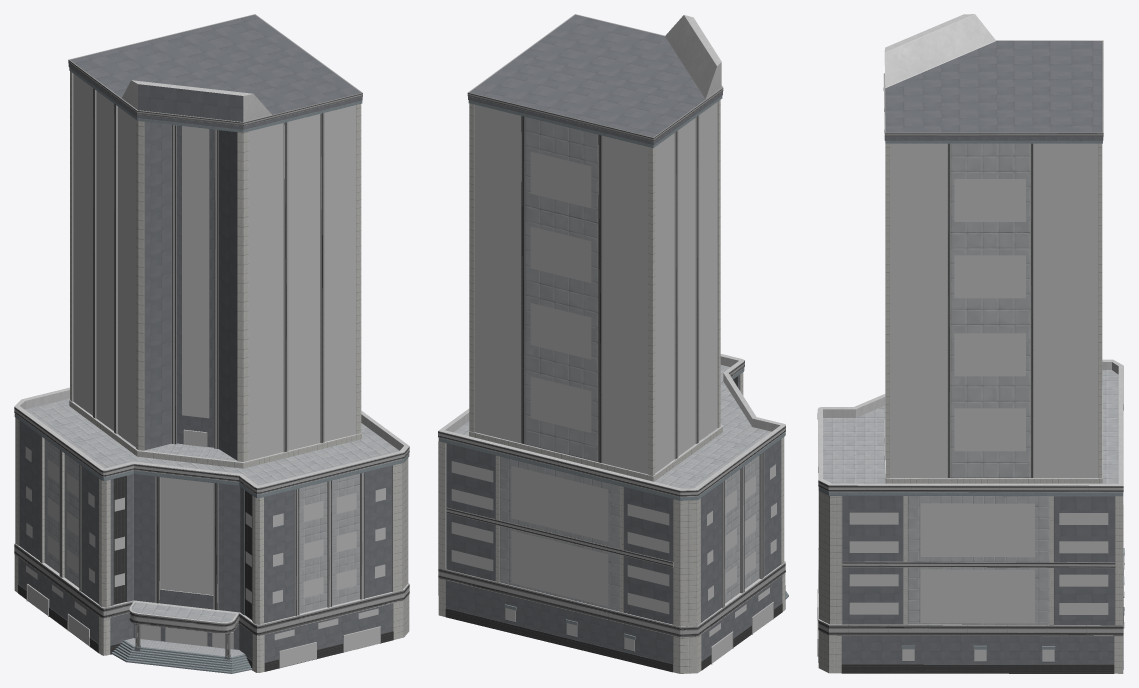
File: BankHouse.fbx
The picture shows the model from 3 angles, left to right: view 1: azimuth 30°, elevation 25°; view 2: azimuth 150°, elevation 25°; view 3: azimuth 270°, elevation 25°; orthographic projection. The views are drawn at different scales.
Visible parts, largest first — view 1: BankHouse; view 2: BankHouse; view 3: BankHouse.
Part boxes in pixels (x1,y1,x2,y2): BankHouse: (14, 14, 409, 673); BankHouse: (438, 14, 788, 673); BankHouse: (817, 14, 1124, 673).
Size of what is drawn, in the model's own units: 42 by 85.49 by 42.74.
